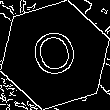O_S: (27, 24, 83, 86)
